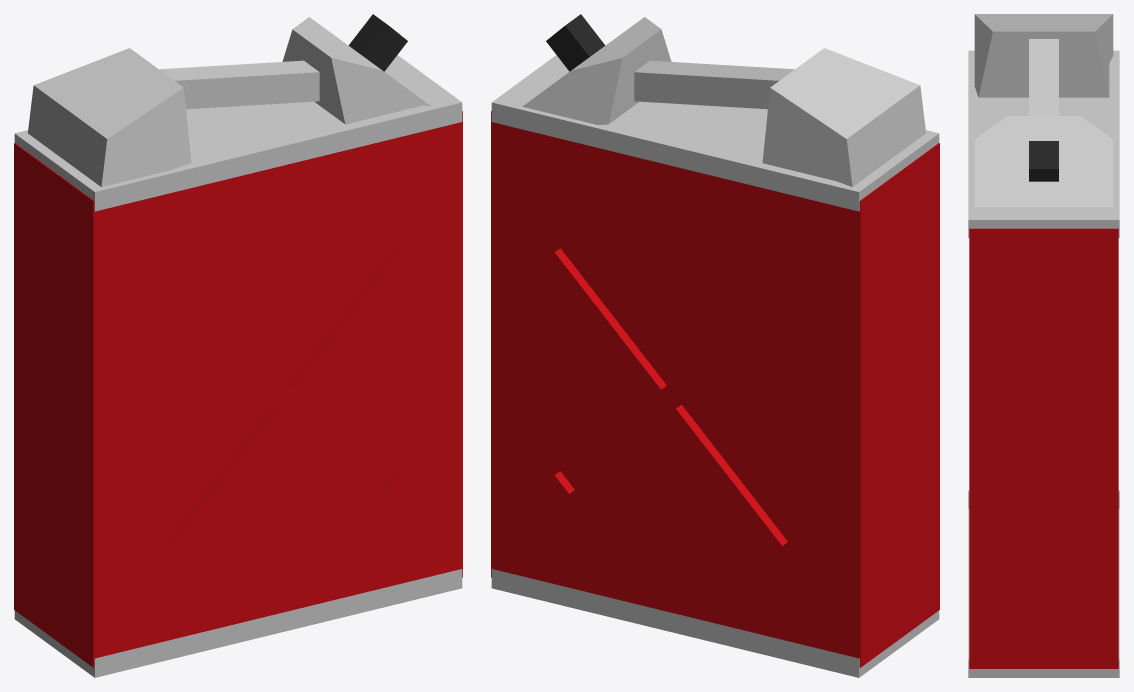
The model's file is cubeFuel1.fbx.
3 views of the same model, side by side, from view 1: azimuth 30°, elevation 25°; view 2: azimuth 150°, elevation 25°; view 3: azimuth 270°, elevation 25° (orthographic). The views are drawn at different scales.
Visible parts, largest first — view 1: Cube.008, Cube.004, Cube.001, Cube.003, Cube.002, Cube.005, Cube.006; view 2: Cube.008, Cube.004, Cube.001, Cube.003, Cube.002, Cube.005, Cube.006; view 3: Cube.008, Cube.002, Cube.001, Cube.004, Cube.005, Cube.003, Cube.006.
Boxes of the visible parts, x1=… form: Cube.008: x1=14, y1=111, x2=462, y2=667; Cube.004: x1=14, y1=55, x2=462, y2=211; Cube.001: x1=28, y1=48, x2=191, y2=187; Cube.003: x1=14, y1=569, x2=462, y2=677; Cube.002: x1=282, y1=17, x2=430, y2=124; Cube.005: x1=159, y1=60, x2=319, y2=109; Cube.006: x1=348, y1=14, x2=407, y2=71; Cube.008: x1=491, y1=111, x2=939, y2=667; Cube.004: x1=491, y1=55, x2=939, y2=211; Cube.001: x1=762, y1=48, x2=925, y2=186; Cube.003: x1=491, y1=569, x2=939, y2=677; Cube.002: x1=523, y1=17, x2=671, y2=124; Cube.005: x1=634, y1=60, x2=794, y2=109; Cube.006: x1=546, y1=14, x2=605, y2=71; Cube.008: x1=969, y1=228, x2=1118, y2=668; Cube.002: x1=974, y1=116, x2=1113, y2=207; Cube.001: x1=974, y1=14, x2=1113, y2=97; Cube.004: x1=968, y1=50, x2=1119, y2=238; Cube.005: x1=1029, y1=39, x2=1058, y2=115; Cube.003: x1=968, y1=490, x2=1119, y2=677; Cube.006: x1=1029, y1=141, x2=1058, y2=181.
Size of the model in its own units: 1.62 by 2.32 by 0.6083.
